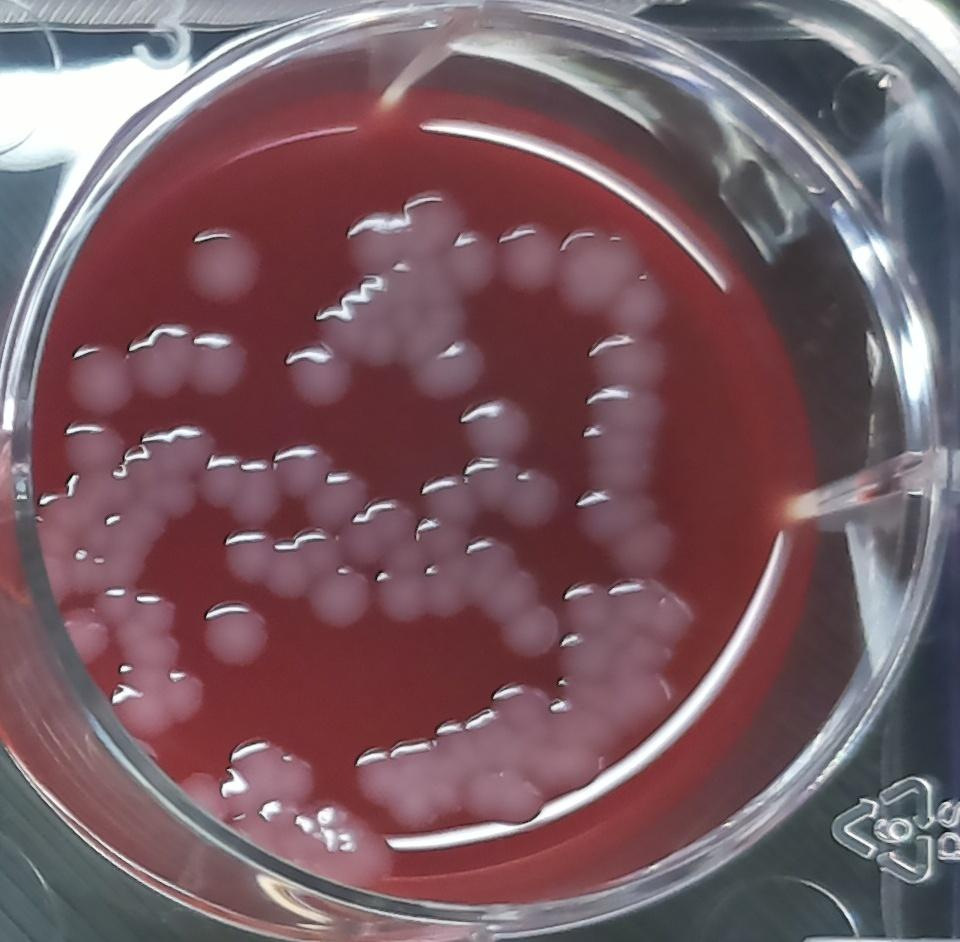valgino: (307, 182, 494, 398), (353, 683, 611, 836), (218, 732, 395, 889), (558, 580, 688, 740), (575, 394, 680, 576), (100, 584, 203, 744), (559, 225, 668, 330), (467, 544, 560, 667), (129, 320, 259, 401), (174, 222, 267, 313), (461, 455, 560, 533), (59, 336, 134, 417), (583, 327, 672, 392), (453, 387, 529, 459), (278, 339, 355, 409), (493, 215, 561, 293), (199, 598, 273, 668), (309, 567, 372, 634), (220, 524, 279, 587), (273, 440, 334, 500)
